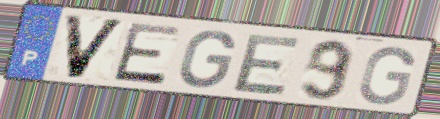9: (300, 38, 356, 102)
E: (109, 21, 185, 87), (228, 32, 304, 97)
G: (177, 28, 239, 90), (356, 44, 417, 107)
V: (62, 12, 129, 81)
